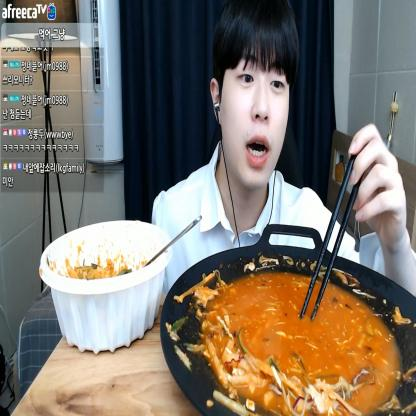streamer: (152, 0, 416, 295)
